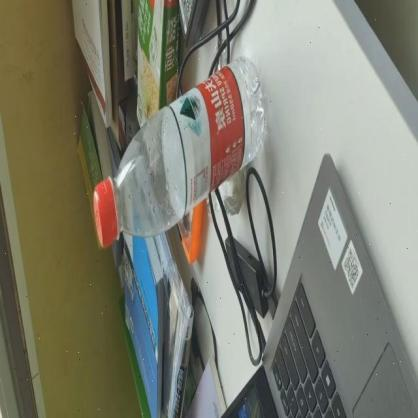bottle: (93, 60, 266, 250)
cap: (89, 178, 121, 248)
label: (174, 66, 245, 236)
